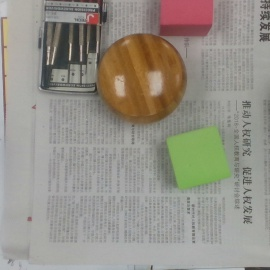chess: (97, 34, 186, 126)
